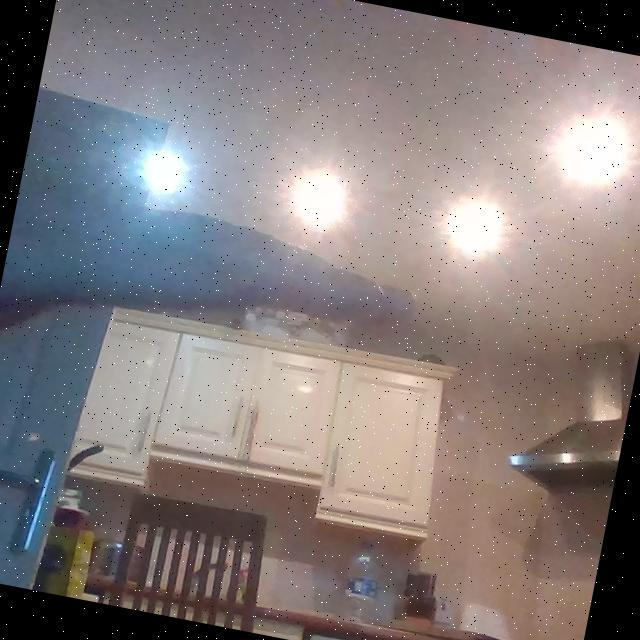papper: (25, 182, 428, 374)
